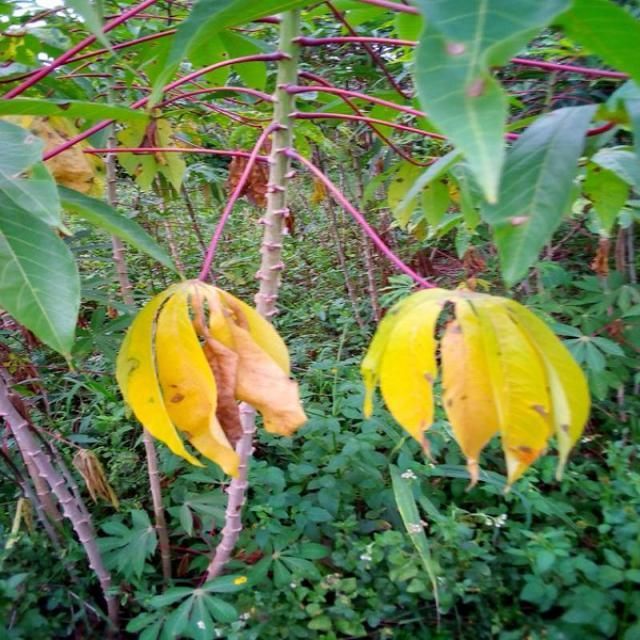cassava leaf: (361, 285, 592, 495), (115, 277, 308, 479), (412, 0, 574, 205), (1, 117, 82, 363)
